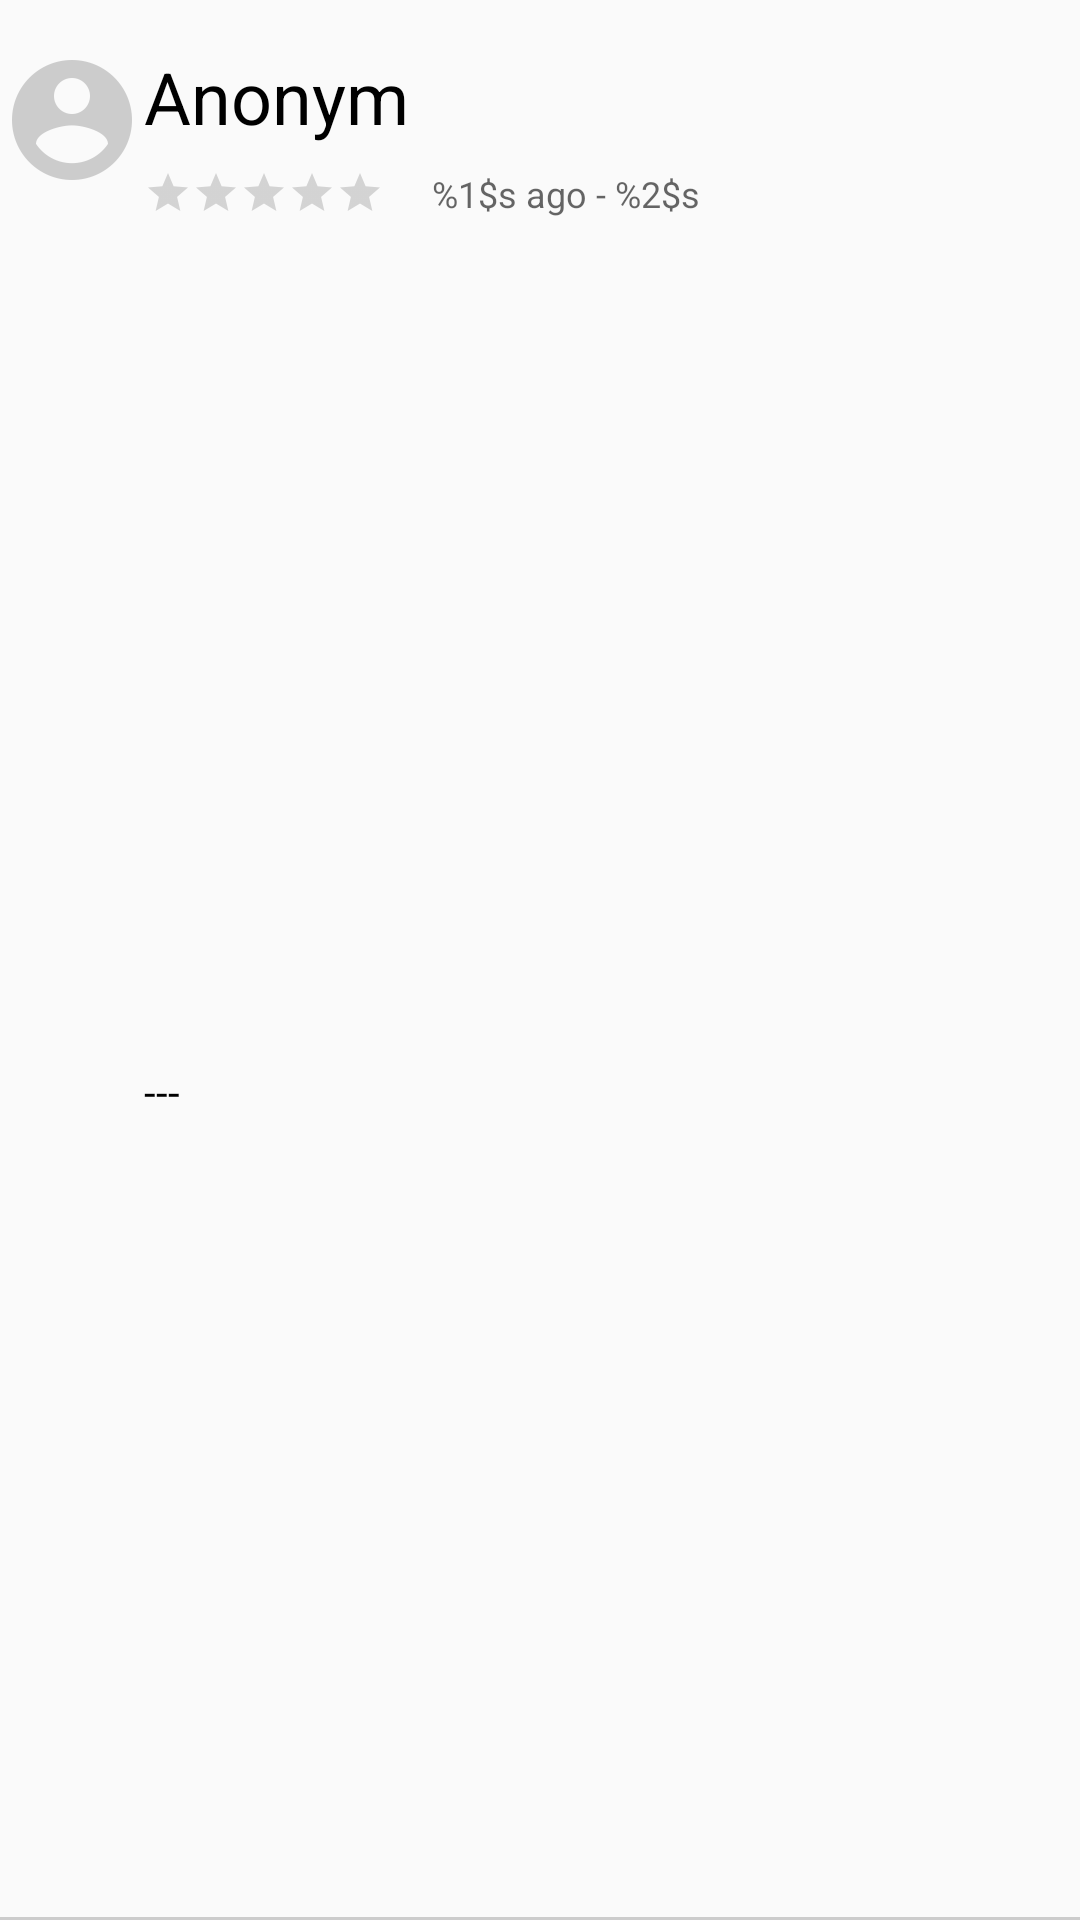

Named icons in this screenshot (1080 x 1920) and their bounding boxes, (x1, y1, x2, y2):
account unknown: (12, 60, 132, 180)
